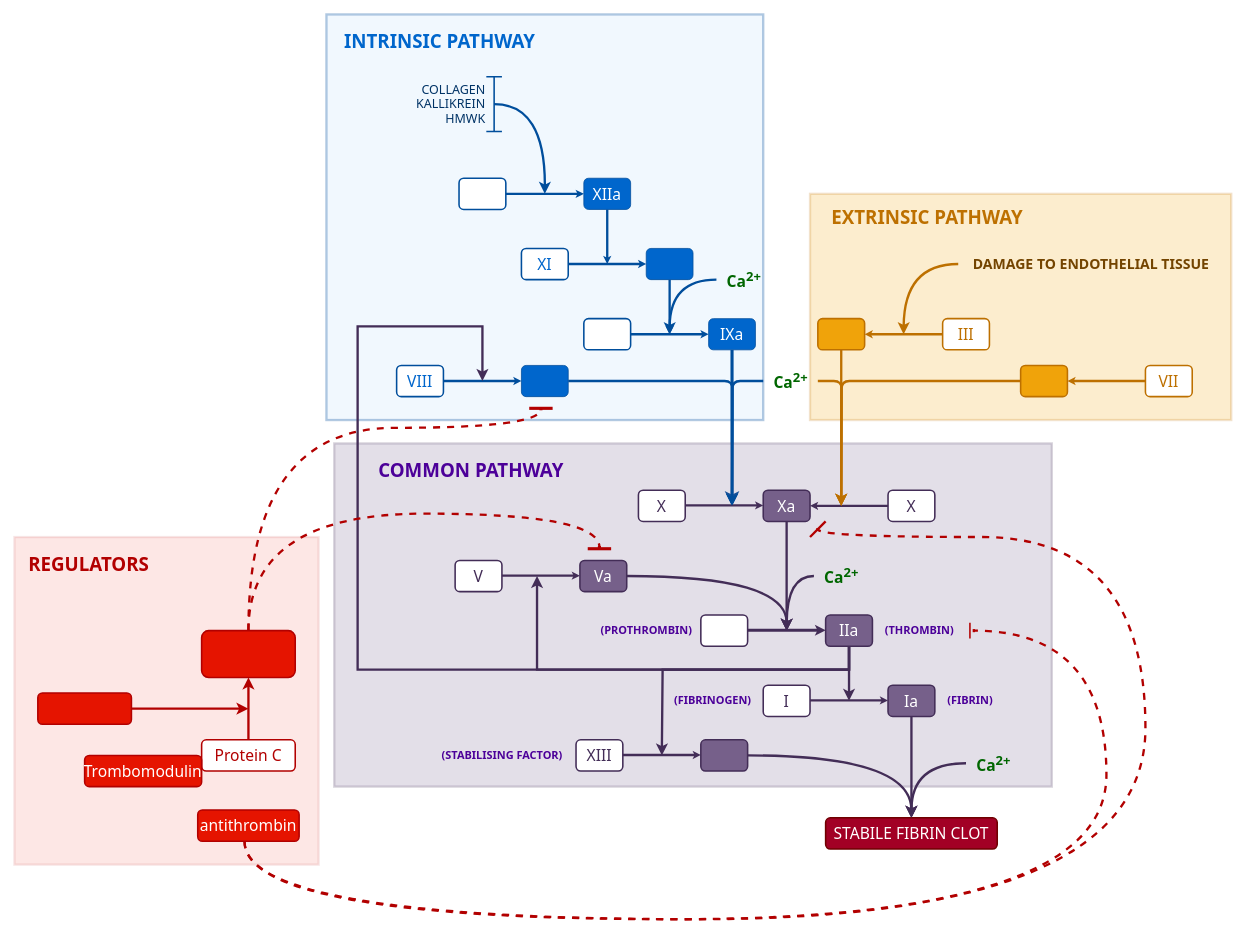
This 1246x934 diagram has some shape labels left out. Here are the shapes that lost their labels. From the top down, the box of each, then its label:
(458, 177, 506, 210): XII
(645, 248, 693, 280): XIa
(583, 317, 631, 350): IX
(817, 317, 865, 350): IIIa
(521, 365, 568, 397): VIIIa
(1019, 364, 1068, 397): VIIa
(700, 614, 748, 647): II
(200, 629, 296, 678): active Protein C
(37, 692, 132, 725): Protein S
(700, 739, 748, 771): XIIIa
